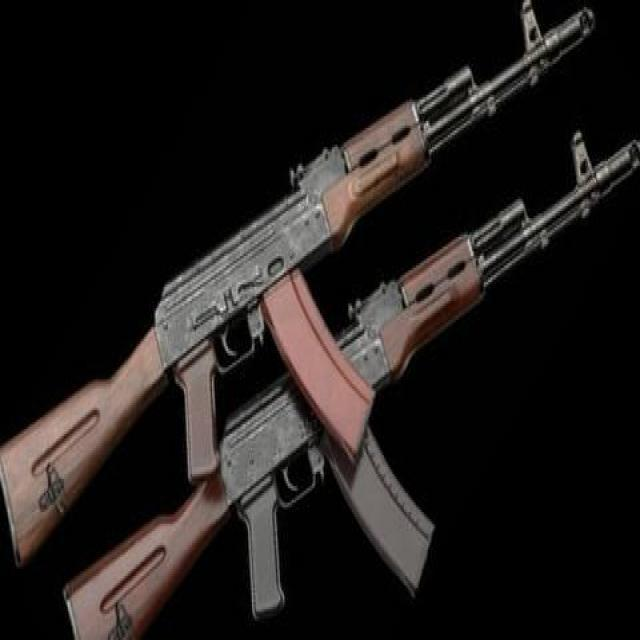weapon: (0, 0, 597, 570), (60, 130, 640, 640)
